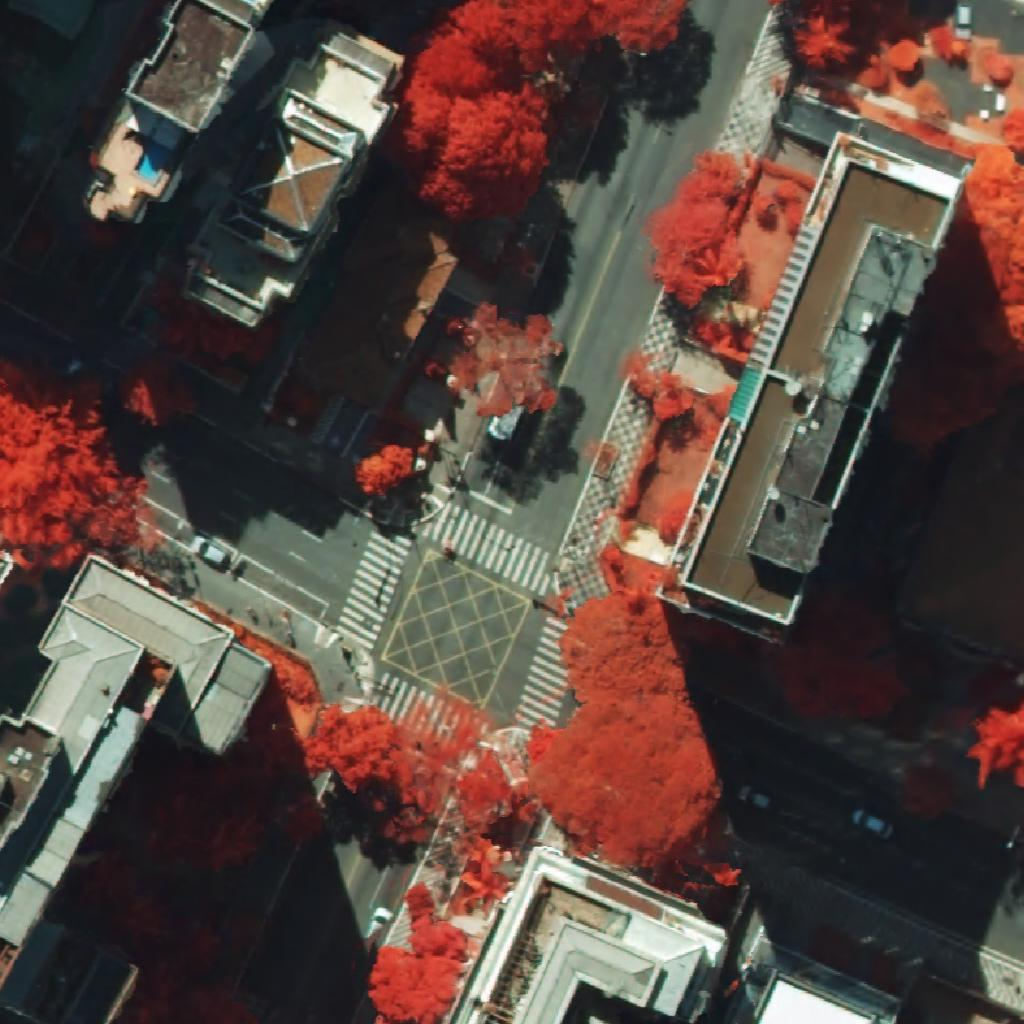pool: (135, 141, 170, 181)
